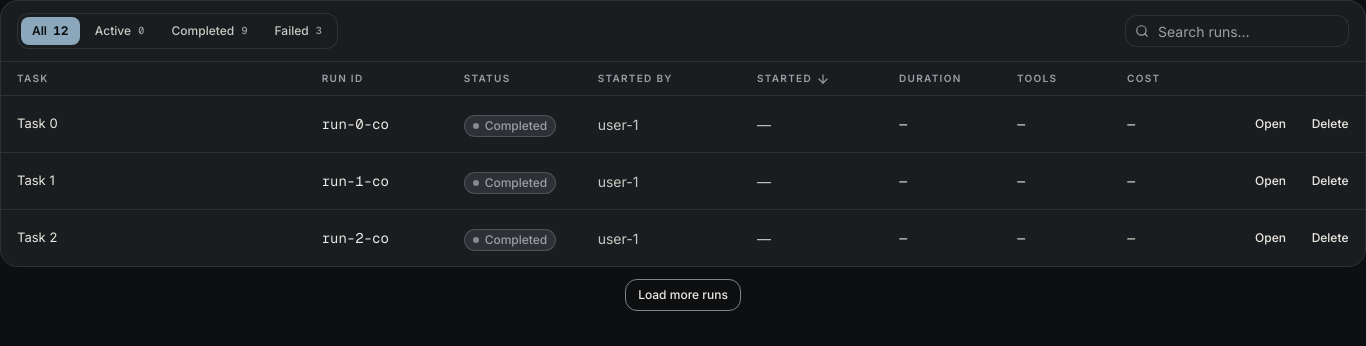
Scenario: Agent runs tab › keeps the cursor after a failed load so a retry asks for the same page
Click the button "Load more runs" at (683, 295), box top-left (625, 279), bottom-right (741, 311)
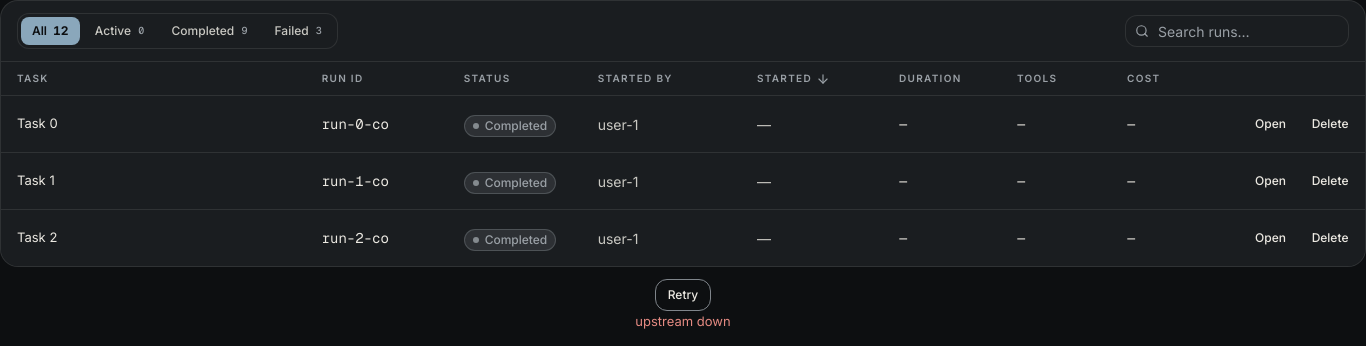
Result: the text "upstream down" is shown at top-left (635, 315), bottom-right (731, 328)
Click the button "Retry" at (683, 295), box top-left (655, 279), bottom-right (711, 311)
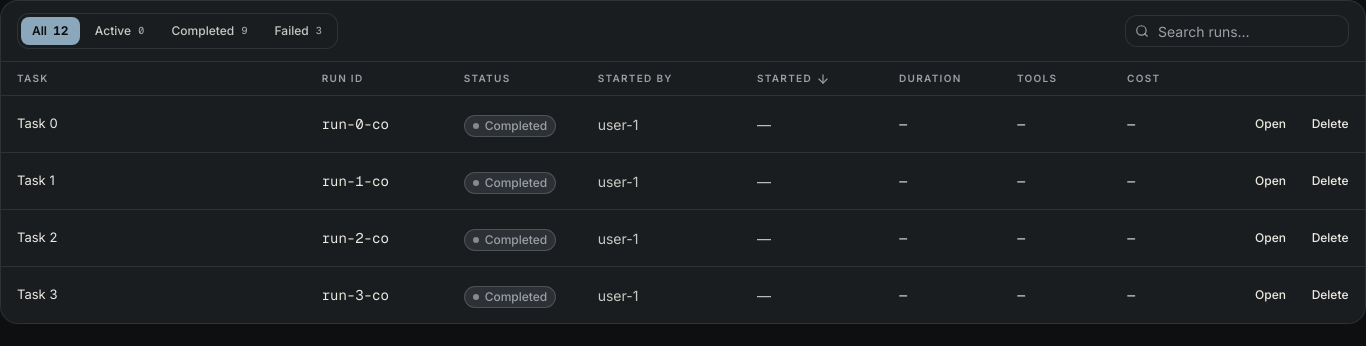
Result: the text "Task 3" is shown at top-left (17, 286), bottom-right (57, 304)
